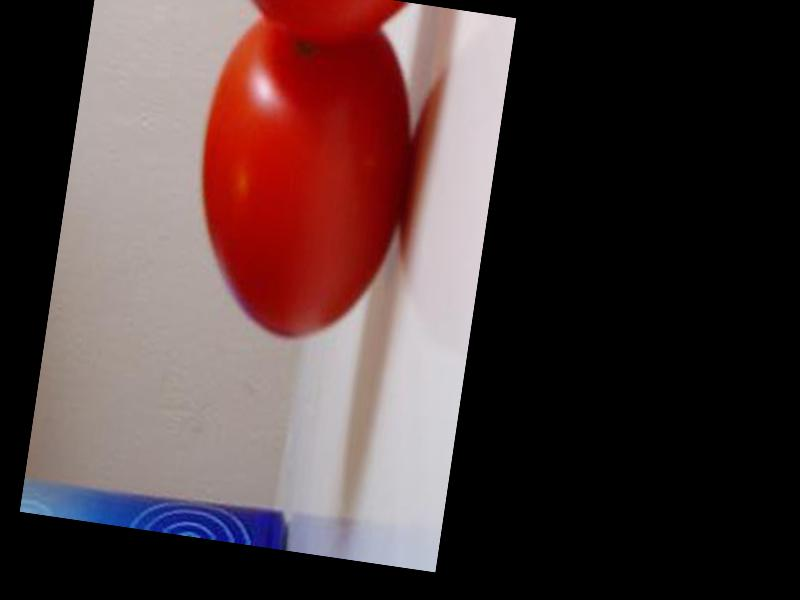Tomato: (179, 11, 429, 350)
